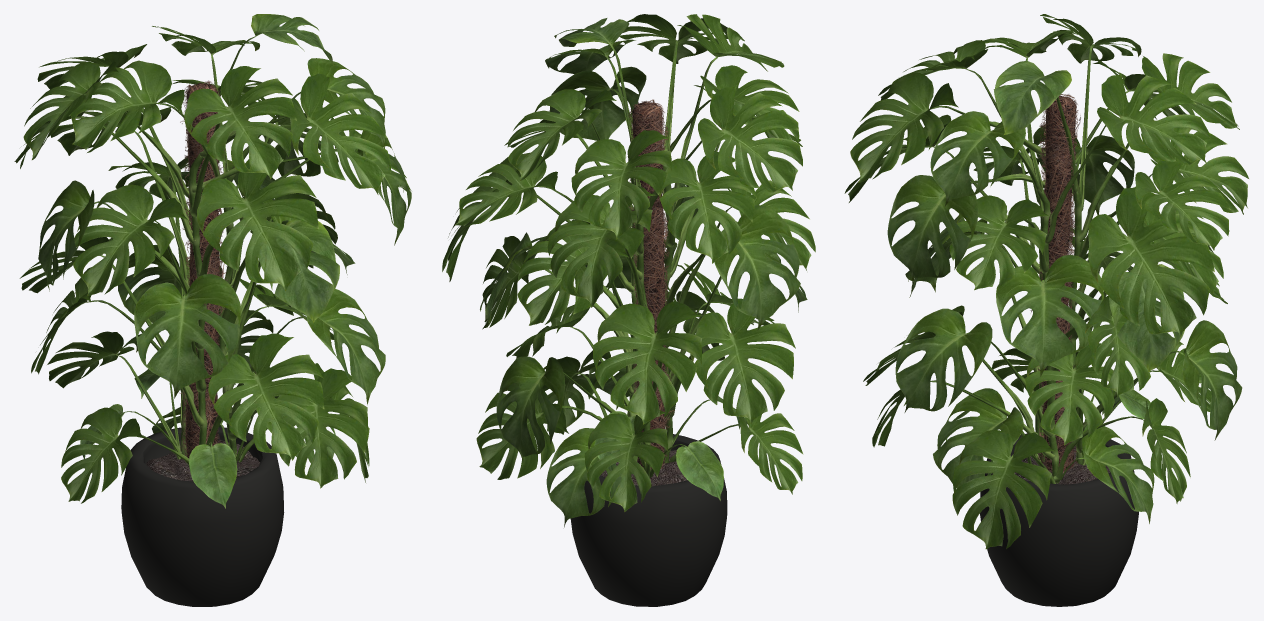
3 renders of one model, left to right at view 1: azimuth 30°, elevation 25°; view 2: azimuth 150°, elevation 25°; view 3: azimuth 270°, elevation 25°, orthographic. The views are drawn at different scales.
Visible parts, largest first — view 1: Monstera_plant; view 2: Monstera_plant; view 3: Monstera_plant.
Boxes of the visible parts, x1=… form: Monstera_plant: x1=14, y1=14, x2=411, y2=606; Monstera_plant: x1=442, y1=14, x2=815, y2=606; Monstera_plant: x1=844, y1=14, x2=1248, y2=606.
Bounding box in the file's own units: 0.8062 × 1.29 × 0.8671.
Materials: 5 (4 with a texture image).
